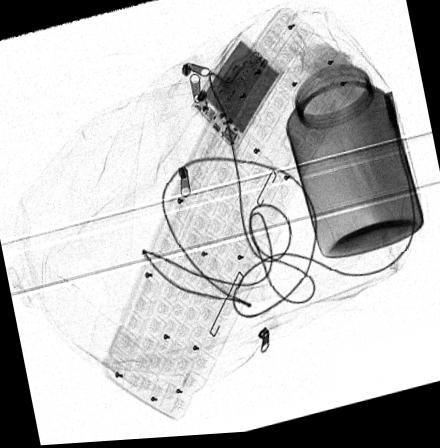Powerbank: (189, 39, 285, 153)
